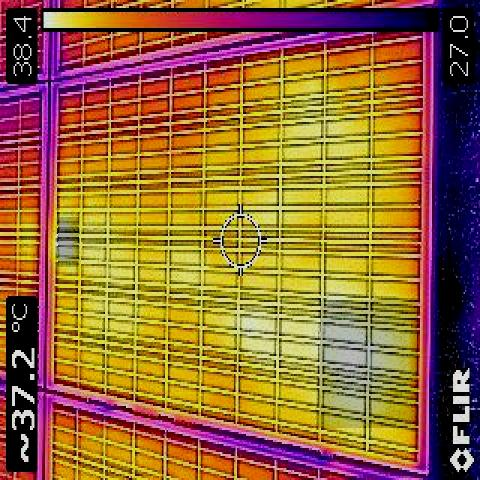fault: (320, 300, 418, 428), (58, 218, 79, 268)
